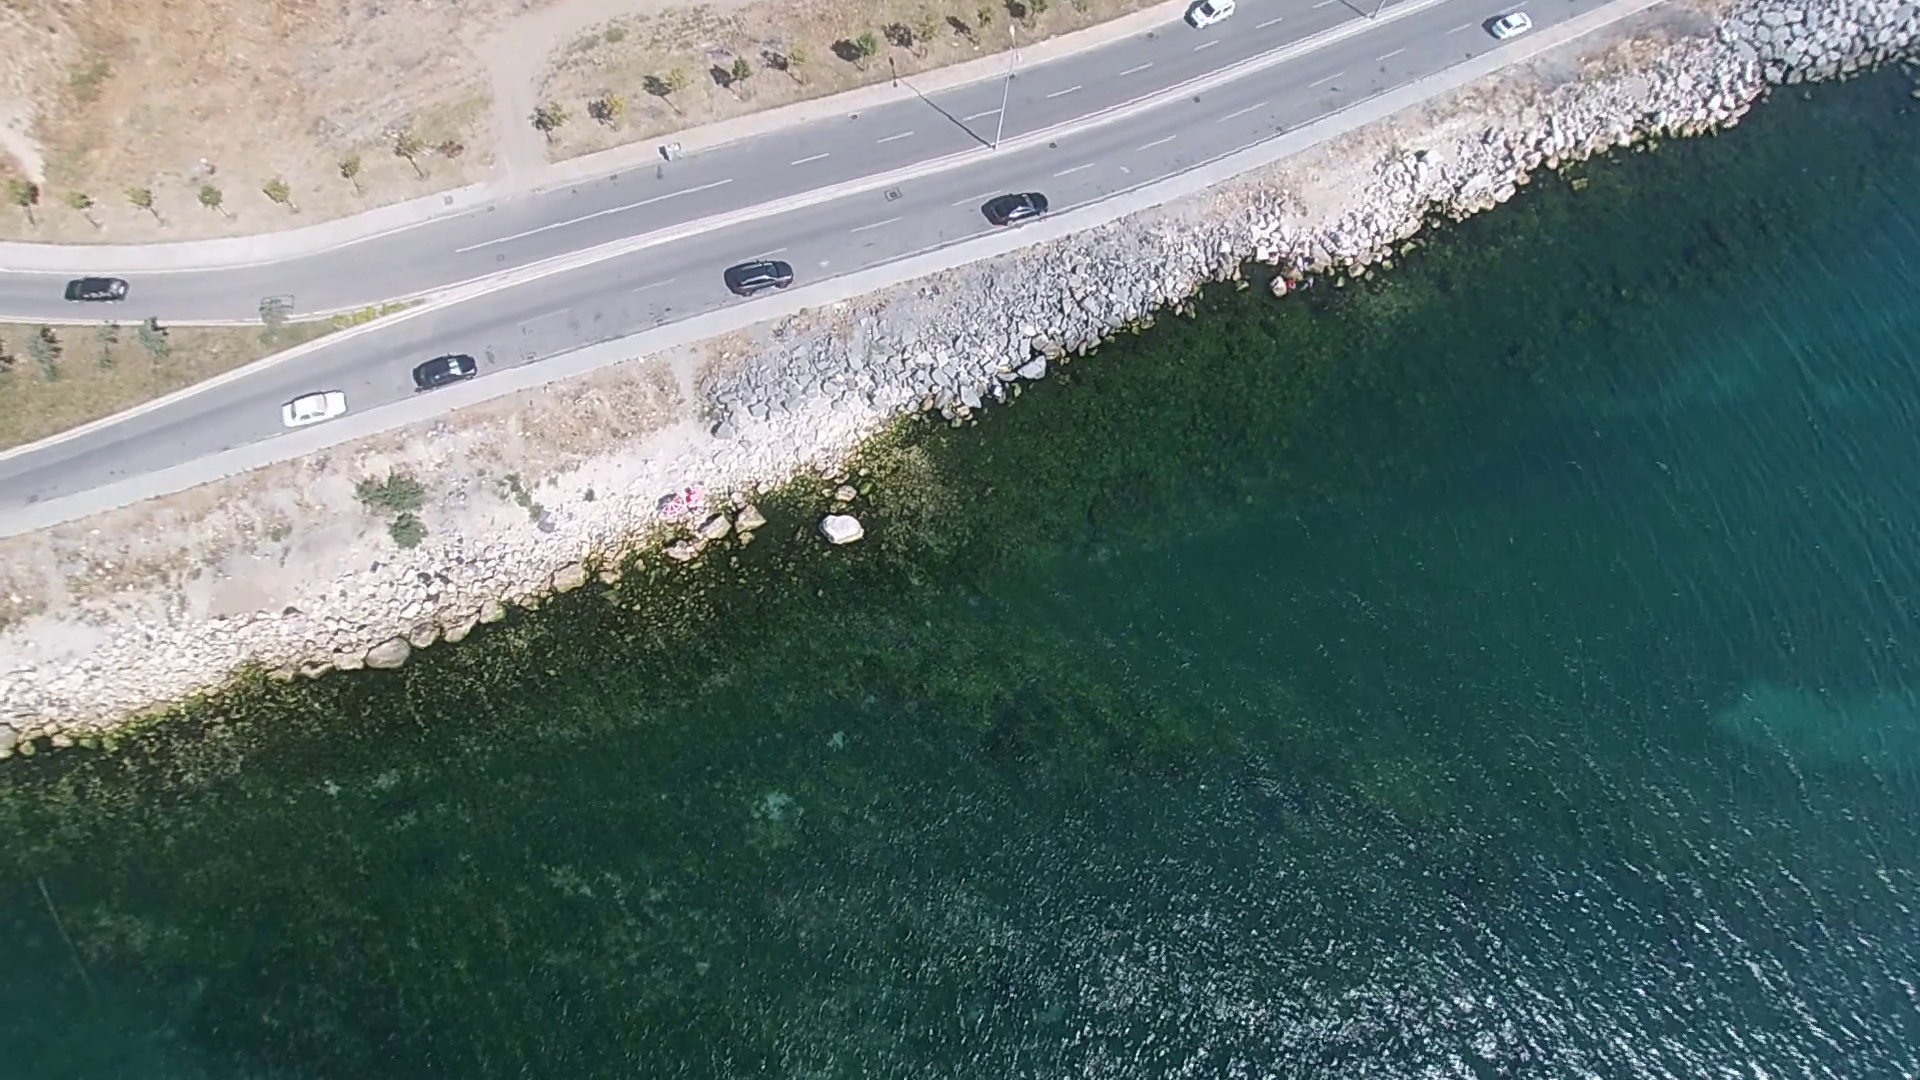araba: (272, 384, 355, 426), (411, 345, 480, 392), (728, 252, 795, 293), (61, 272, 135, 306), (988, 183, 1047, 225), (1185, 1, 1253, 26), (1487, 7, 1534, 40)
